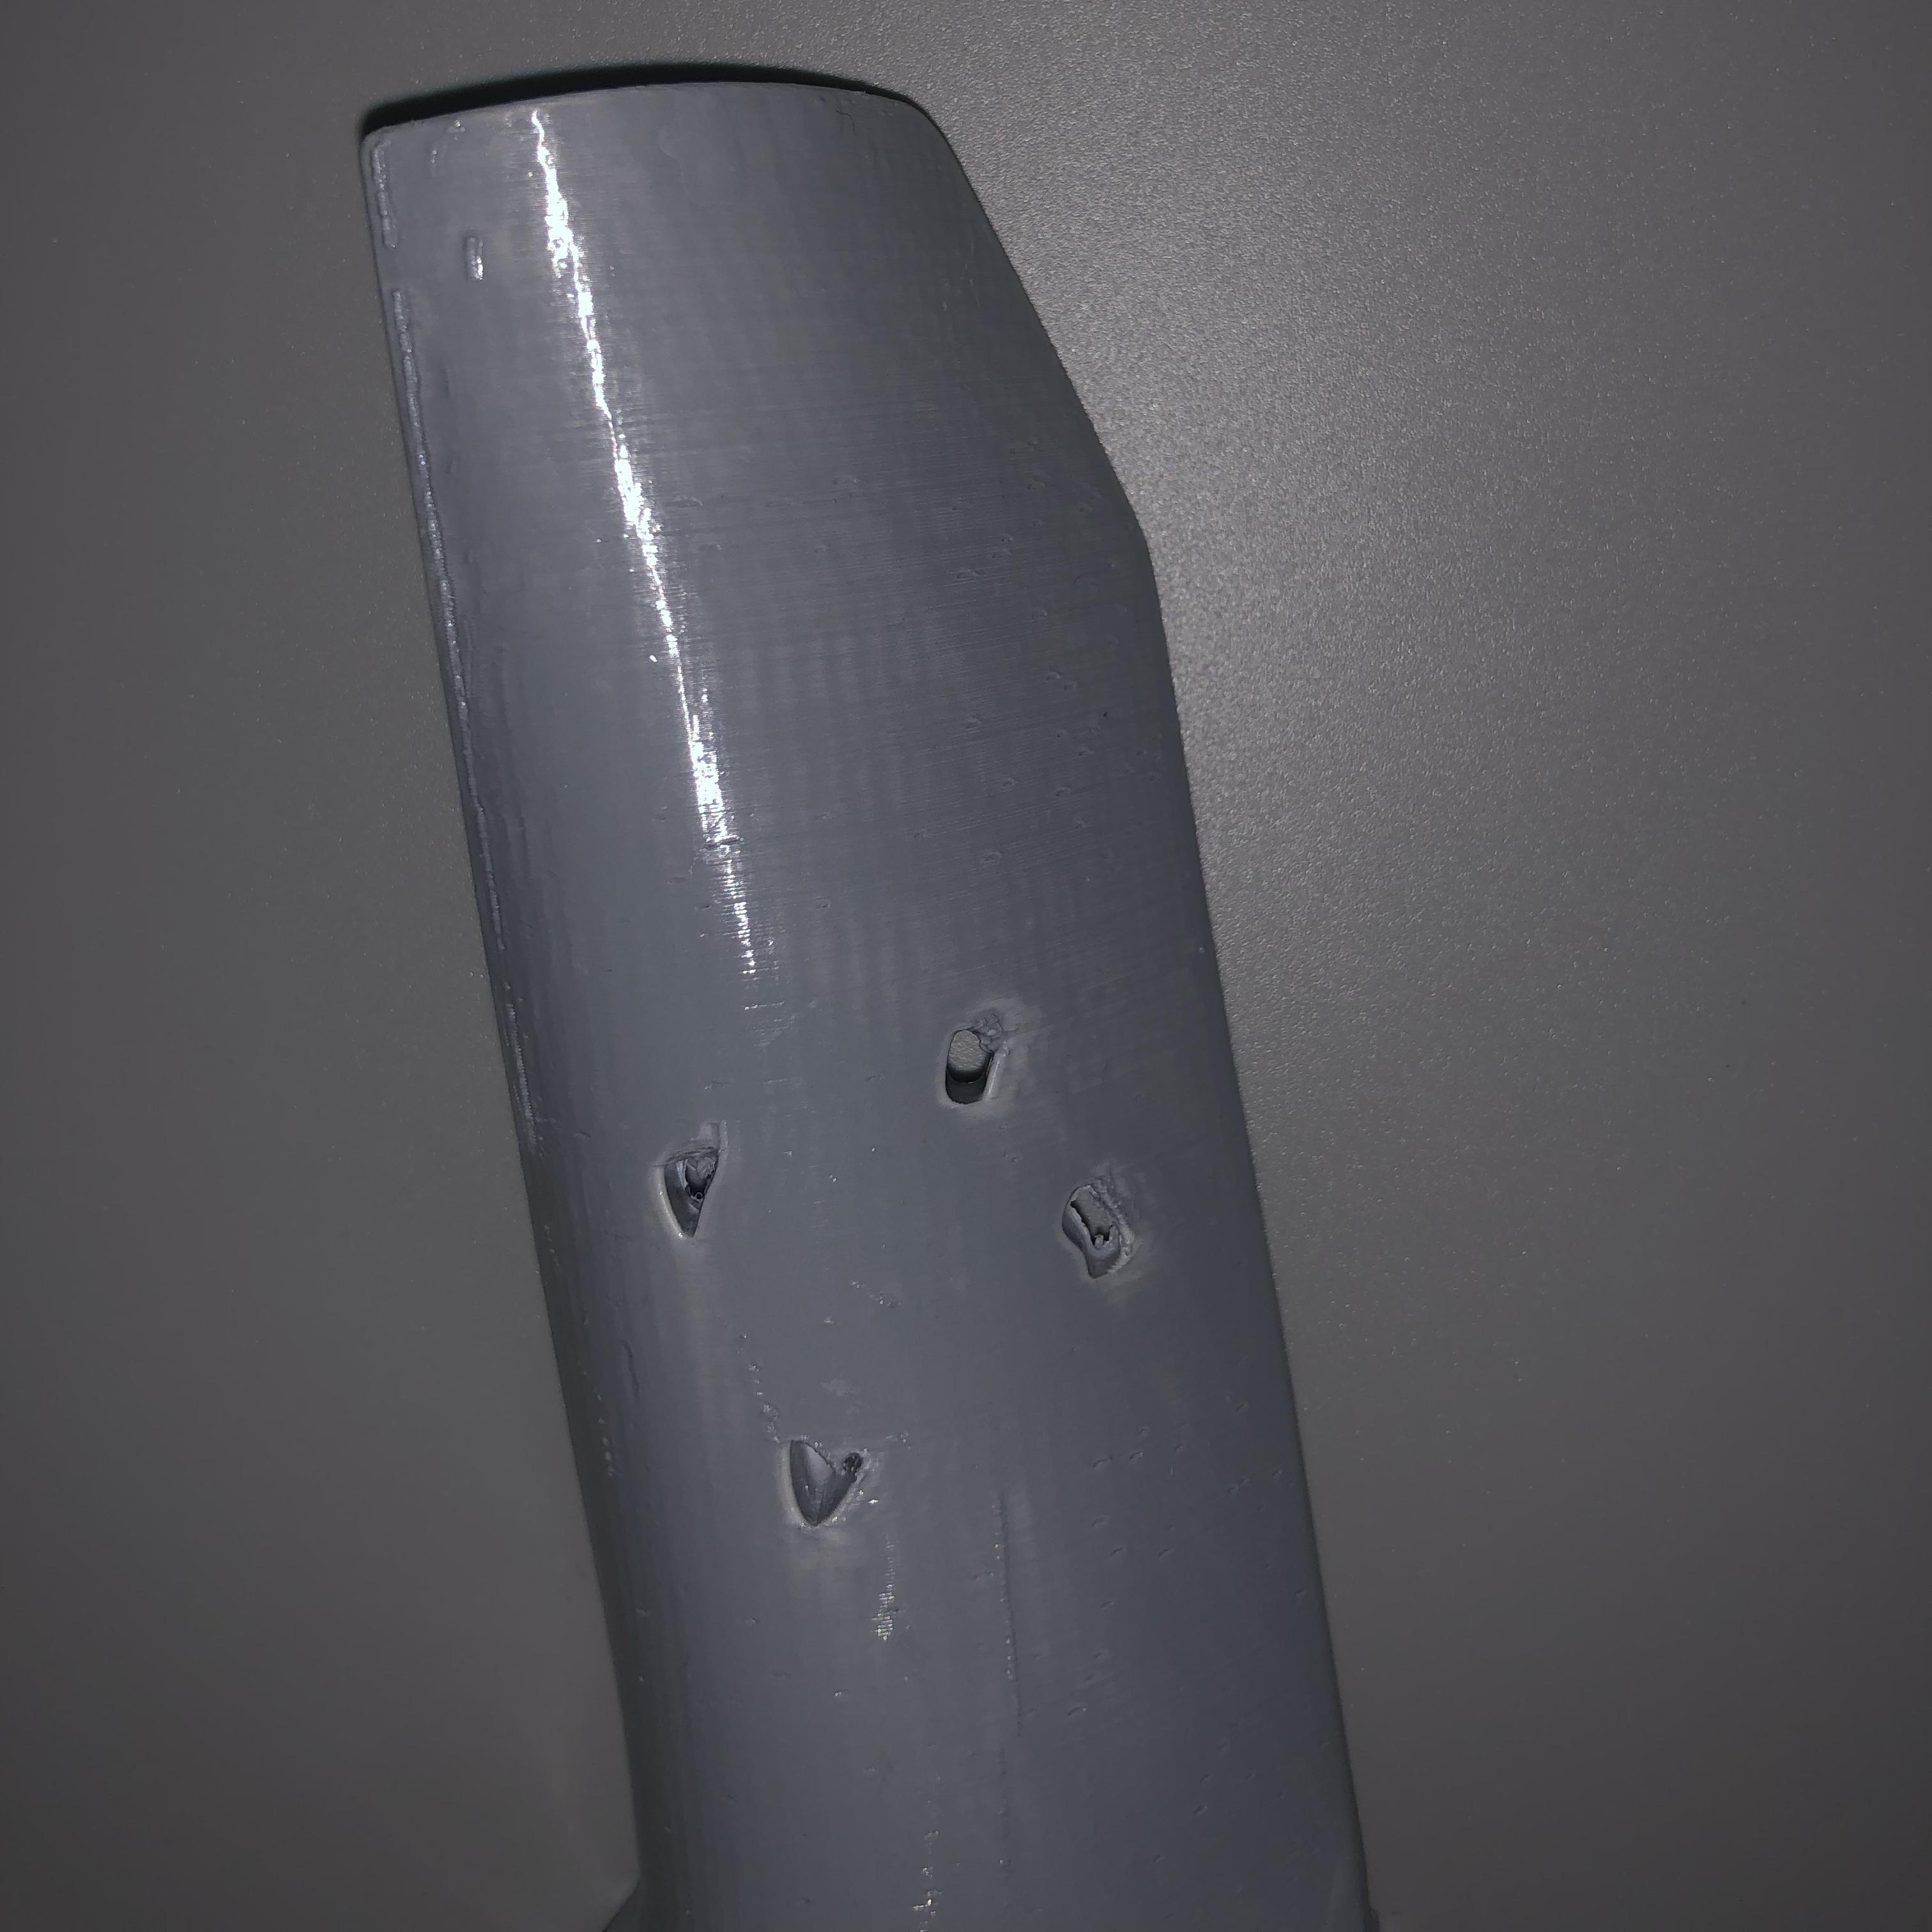breakdown: (648, 1028, 1157, 1546)
